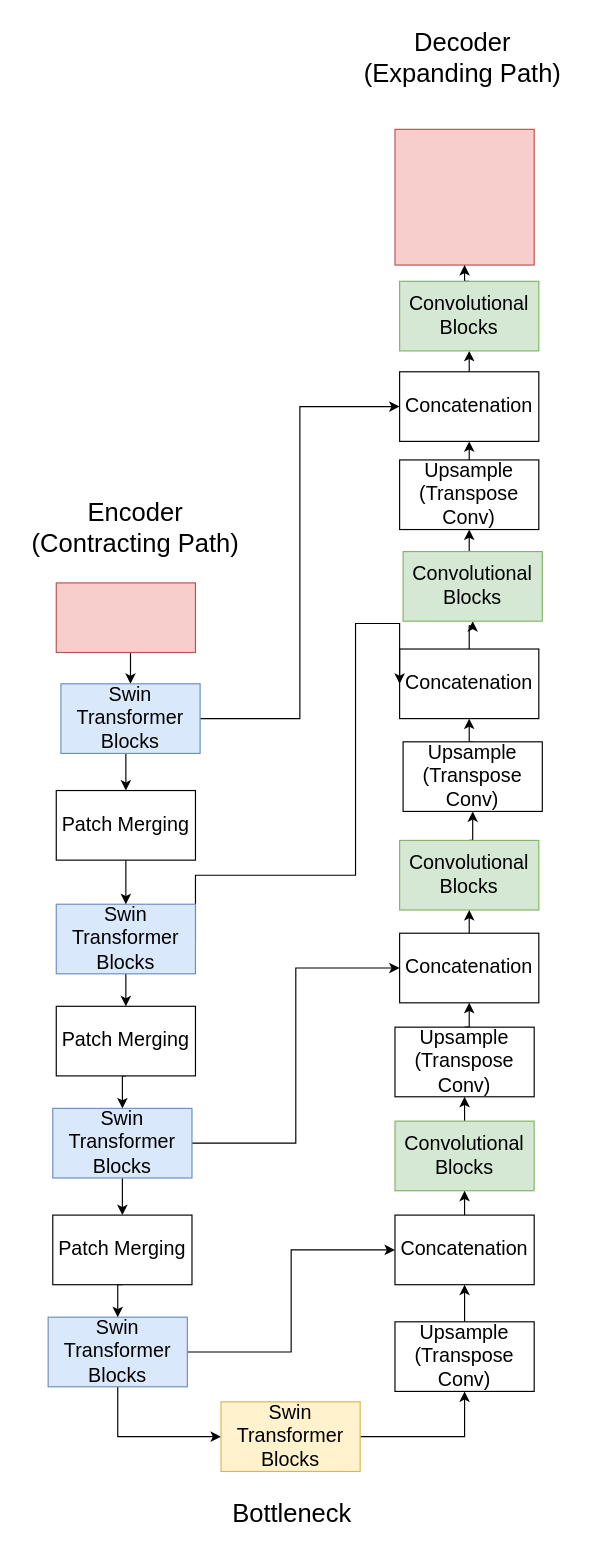
Image size: 590x1556. Some labels were removed from this diagram. The centre of each missing label's shape, as x and y in pixels:
3D CT Volumn (96X96X96): pixel 125 617
3D segmentation Mask (96X96X96): pixel 464 196
